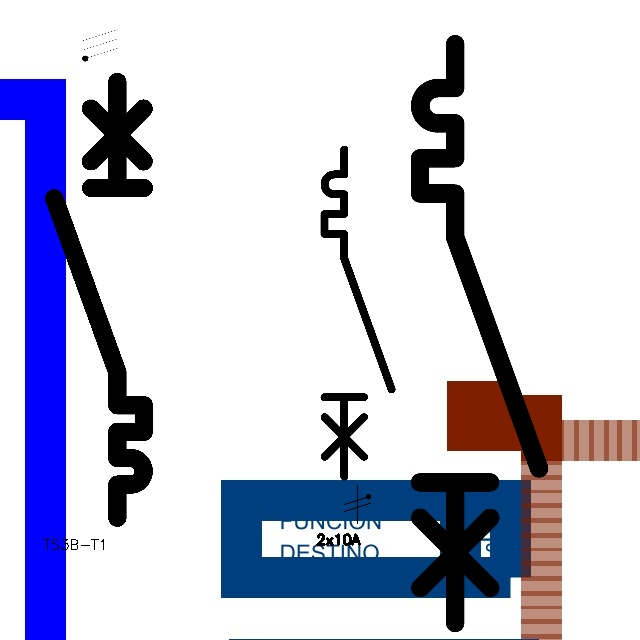interruptor_termomagnetico: (405, 29, 554, 638), (43, 70, 155, 528), (316, 141, 400, 485)
